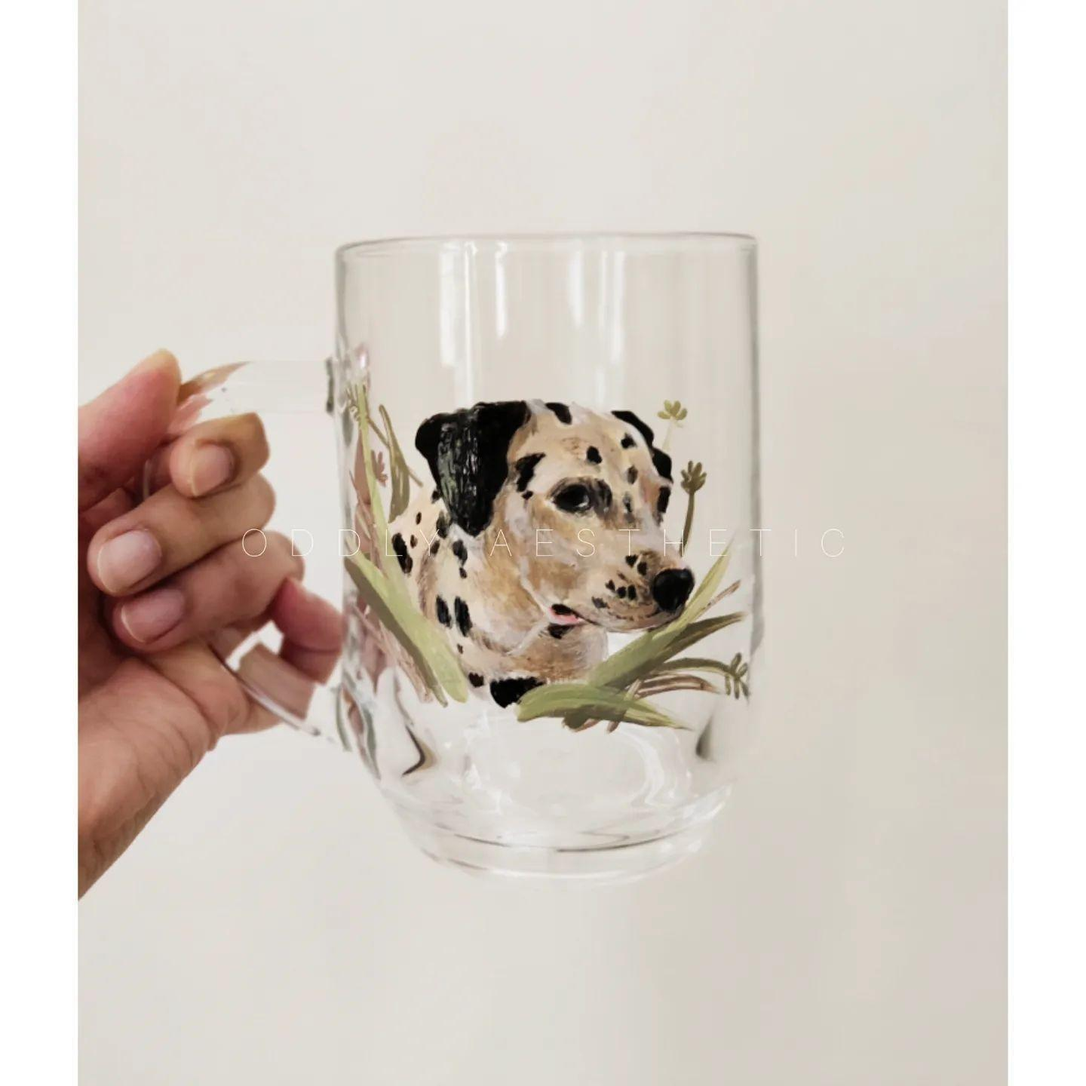glass-mug: (146, 221, 800, 878)
